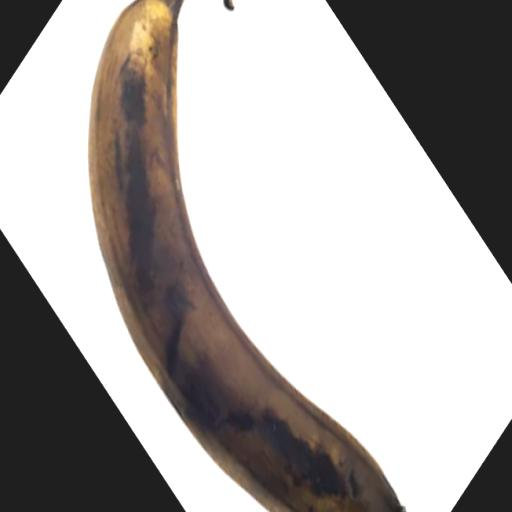banana-overripe: (91, 0, 385, 512)
